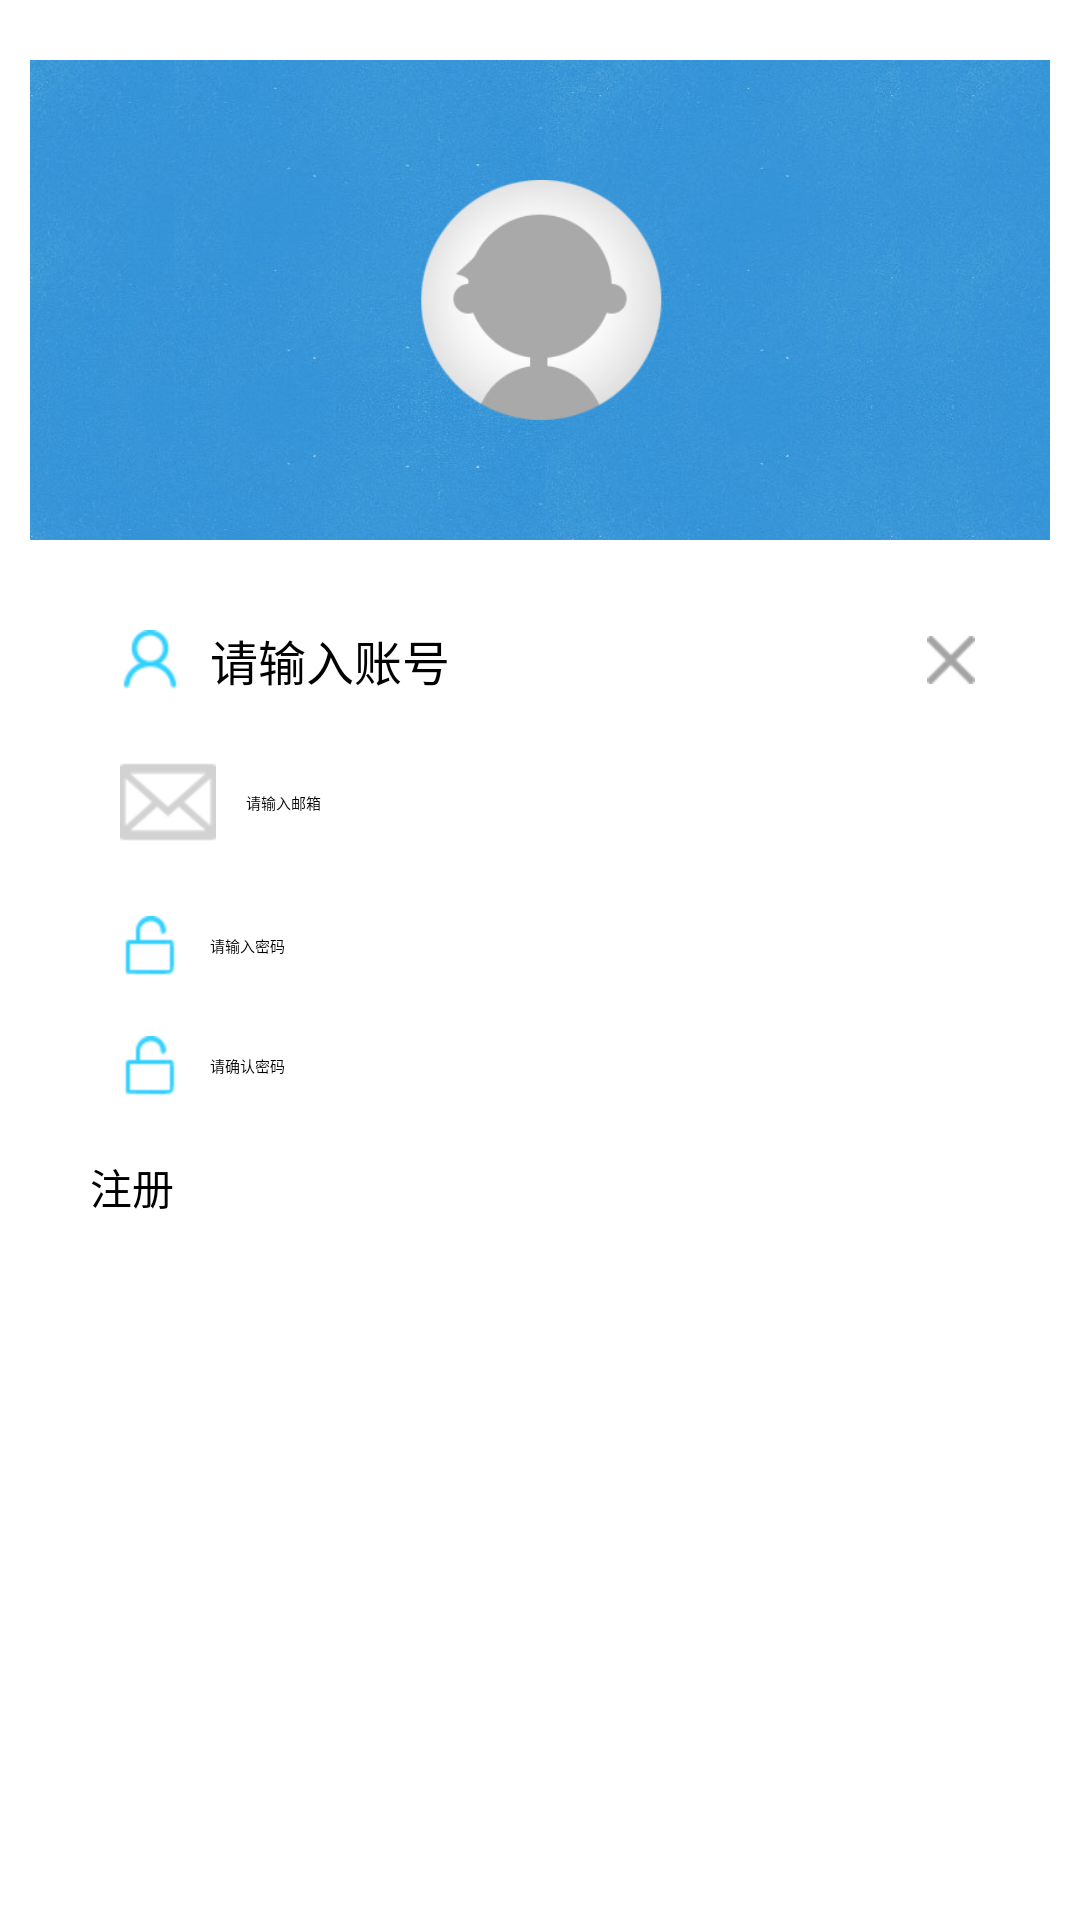

Screen size 1080px×1920px. Icon name, then its center in pixels as (x,y):
email indicator: (168,802)
login password indicator: (150,945), (150,1065)
login username indicator: (150,659)
